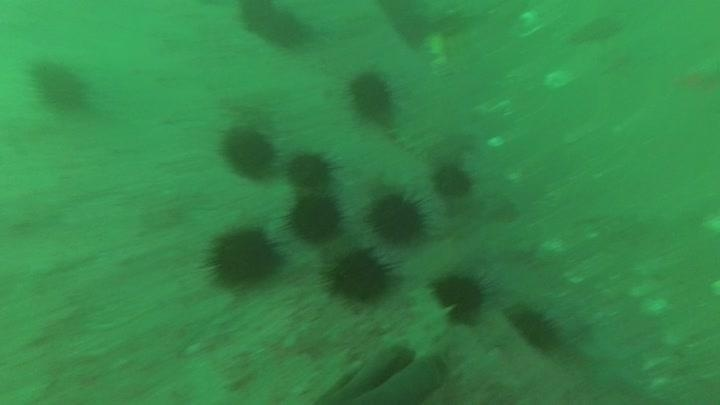echinus: (203, 223, 283, 291), (322, 245, 396, 306), (28, 56, 93, 114), (366, 189, 430, 247), (237, 1, 311, 51), (218, 123, 279, 182), (430, 268, 491, 324), (286, 191, 345, 245), (345, 68, 398, 125), (505, 302, 562, 353), (285, 148, 337, 190), (431, 160, 475, 200)
holothurian: (401, 283, 454, 360)
starfish: (572, 319, 656, 400)
